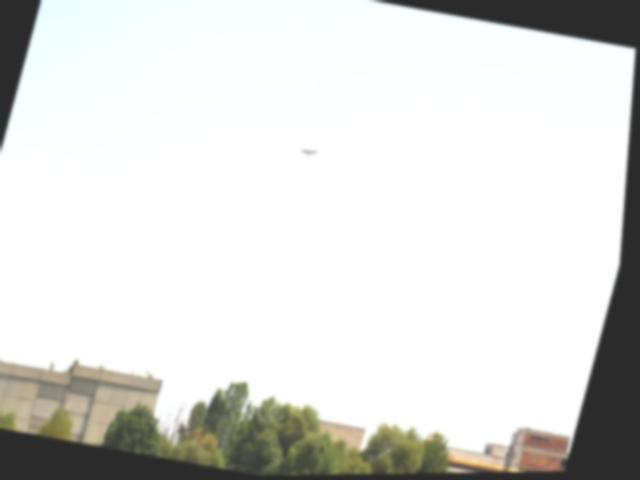plane: (302, 147, 323, 160)
